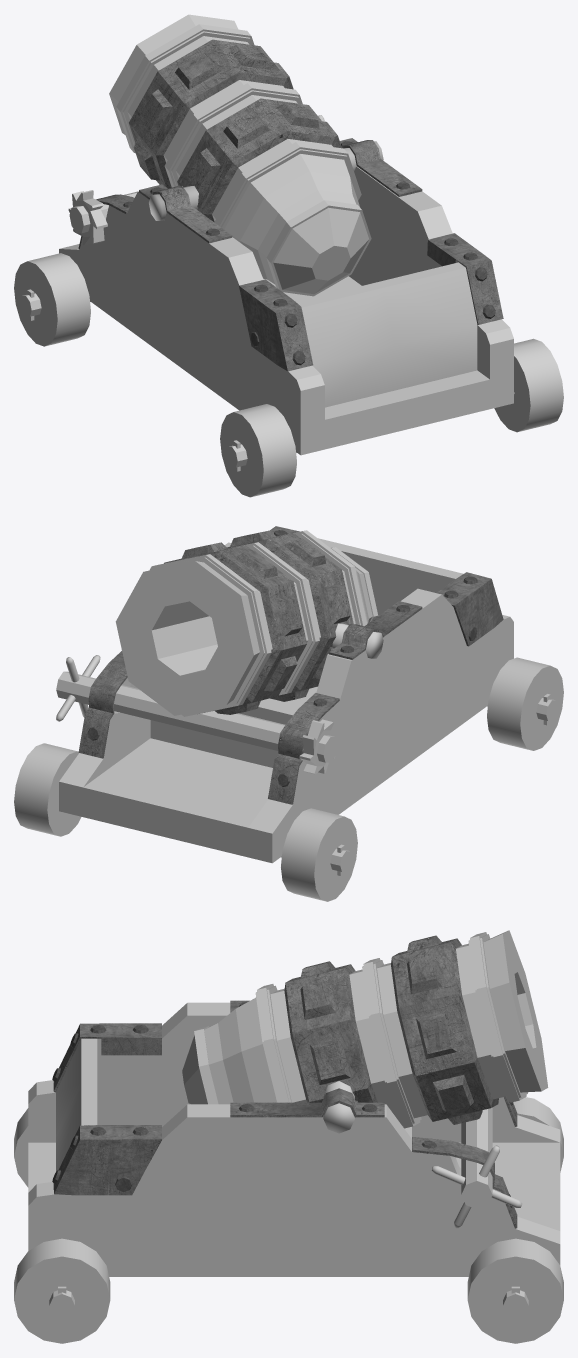
Rendered from MortireLvl3.fbx.
The picture shows the model from 3 angles, top to bottom: view 1: azimuth 30°, elevation 25°; view 2: azimuth 150°, elevation 25°; view 3: azimuth 270°, elevation 25°; orthographic projection. The views are drawn at different scales.
Parts seen in each view (by area): view 1: Cube.042, Cylinder.049, Cylinder.050, Cube.038, Cube.043, Cube.040, Cylinder.045, Cylinder.044, Cylinder.051, Cylinder.048; view 2: Cube.042, Cylinder.049, Cylinder.050, Cube.040, Cylinder.044, Cube.038, Cylinder.038, Cube.043, Cylinder.045, Cylinder.048, Cylinder.034; view 3: Cube.042, Cylinder.049, Cylinder.050, Cube.040, Cube.038, Cube.043, Cylinder.045, Cylinder.044, Cylinder.038, Cylinder.051, Cylinder.048, Cylinder.035 (+3 smaller).
Boxes of the visible parts, x1=… form: Cube.042: x1=59, y1=166, x2=513, y2=455; Cylinder.049: x1=109, y1=14, x2=371, y2=296; Cylinder.050: x1=129, y1=39, x2=341, y2=221; Cube.038: x1=220, y1=338, x2=563, y2=497; Cube.043: x1=239, y1=233, x2=503, y2=371; Cube.040: x1=14, y1=253, x2=90, y2=346; Cylinder.045: x1=139, y1=138, x2=422, y2=243; Cylinder.044: x1=68, y1=190, x2=137, y2=245; Cylinder.051: x1=250, y1=238, x2=495, y2=365; Cylinder.048: x1=149, y1=141, x2=383, y2=220; Cube.042: x1=59, y1=538, x2=513, y2=863; Cylinder.049: x1=115, y1=530, x2=378, y2=716; Cylinder.050: x1=164, y1=530, x2=353, y2=714; Cube.040: x1=14, y1=743, x2=357, y2=901; Cylinder.044: x1=56, y1=671, x2=338, y2=774; Cube.038: x1=487, y1=657, x2=563, y2=750; Cylinder.038: x1=78, y1=651, x2=339, y2=804; Cube.043: x1=270, y1=526, x2=503, y2=646; Cylinder.045: x1=329, y1=601, x2=422, y2=659; Cylinder.048: x1=332, y1=623, x2=383, y2=658; Cylinder.034: x1=87, y1=605, x2=410, y2=786; Cube.042: x1=28, y1=1002, x2=560, y2=1276; Cylinder.049: x1=182, y1=930, x2=548, y2=1128; Cylinder.050: x1=284, y1=935, x2=498, y2=1124; Cube.040: x1=467, y1=1097, x2=563, y2=1343; Cube.038: x1=14, y1=1108, x2=110, y2=1343; Cube.043: x1=53, y1=1023, x2=161, y2=1195; Cylinder.045: x1=230, y1=1000, x2=384, y2=1117; Cylinder.044: x1=461, y1=1107, x2=492, y2=1208; Cylinder.038: x1=412, y1=1096, x2=517, y2=1228; Cylinder.051: x1=52, y1=1025, x2=148, y2=1192; Cylinder.048: x1=323, y1=1081, x2=354, y2=1133; Cylinder.035: x1=431, y1=1166, x2=522, y2=1207.
Bounding box in the file's own units: 111 × 98.24 × 149.
